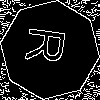R: (25, 25, 76, 67)
